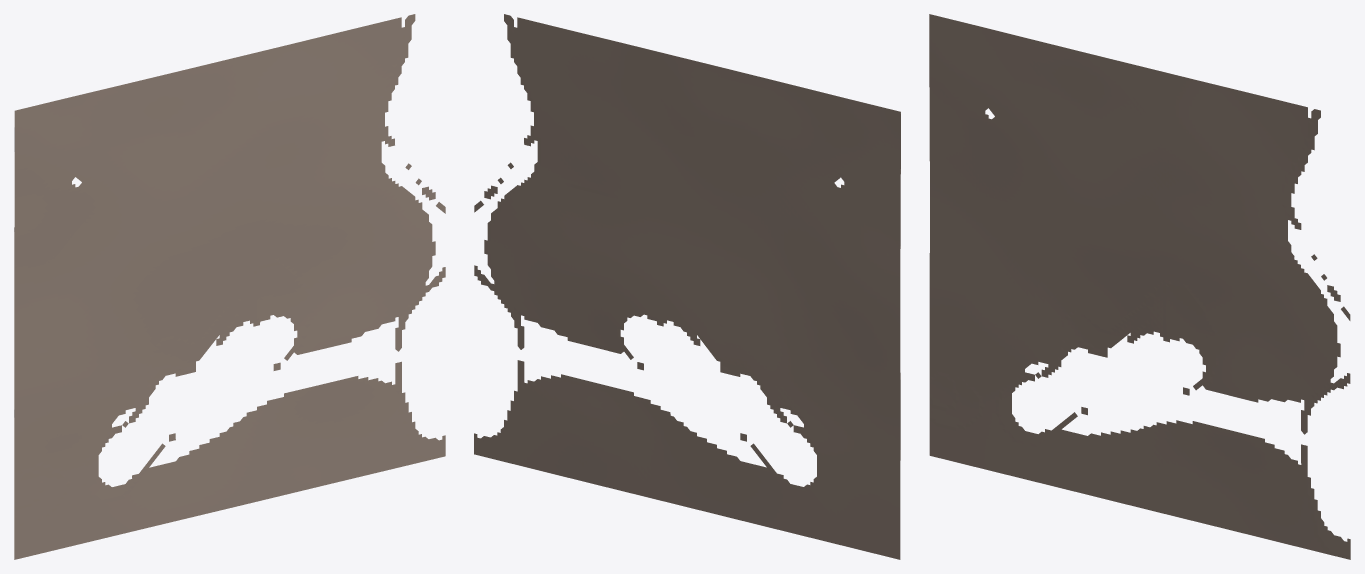
The model's file is L07_shell.glb.
The picture shows the model from 3 angles, left to right: view 1: azimuth 30°, elevation 25°; view 2: azimuth 150°, elevation 25°; view 3: azimuth 330°, elevation 25°; orthographic projection.
Visible parts, largest first — view 1: world; view 2: world; view 3: world.
Part boxes in pixels (box(x1,y1,x2,y2)): world: box(14, 14, 445, 559); world: box(474, 14, 900, 559); world: box(929, 14, 1350, 559).
Bounding box in the file's own units: 12800 × 12800 × 102.
